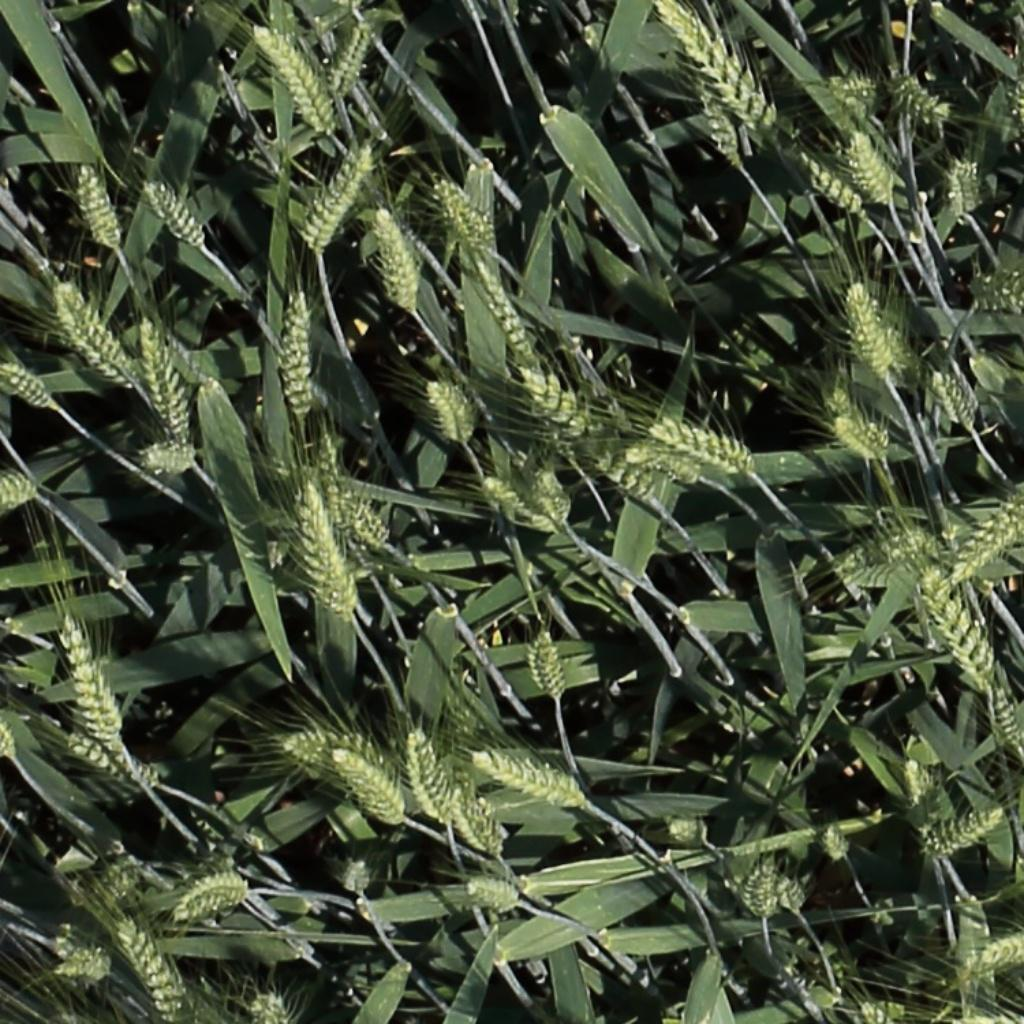0-0: (652, 0, 780, 126), (285, 467, 356, 621), (251, 19, 339, 139), (920, 567, 999, 697), (55, 611, 122, 763), (53, 279, 140, 380), (303, 137, 378, 253), (114, 913, 188, 1021), (469, 741, 589, 803), (471, 251, 537, 363), (838, 270, 903, 377), (282, 287, 331, 423), (135, 315, 187, 443), (950, 495, 1022, 585), (66, 734, 159, 798), (333, 749, 406, 828), (372, 202, 421, 316), (518, 364, 591, 439), (836, 528, 939, 581), (688, 78, 748, 166), (795, 147, 869, 217), (141, 176, 208, 251), (405, 730, 454, 832), (283, 727, 383, 776), (651, 421, 755, 468), (173, 867, 257, 921), (833, 393, 894, 467), (449, 785, 506, 864), (483, 476, 562, 532), (75, 158, 122, 252), (847, 124, 899, 208), (327, 16, 376, 105), (434, 174, 495, 245), (316, 431, 354, 543), (829, 66, 894, 128), (924, 809, 1006, 857), (927, 364, 980, 435), (425, 374, 472, 449), (339, 488, 393, 550), (528, 623, 567, 703), (48, 942, 114, 989), (628, 443, 703, 481), (595, 456, 660, 499), (987, 681, 1022, 759), (741, 850, 780, 920), (134, 438, 203, 477), (0, 361, 55, 409), (898, 752, 942, 812), (966, 926, 1024, 971), (535, 466, 574, 531), (972, 267, 1022, 314), (466, 874, 526, 910), (763, 863, 809, 909), (251, 988, 304, 1024), (954, 152, 981, 219), (821, 820, 854, 871), (0, 467, 35, 515), (344, 853, 371, 903), (0, 685, 17, 761), (854, 997, 901, 1024), (667, 821, 711, 843)
